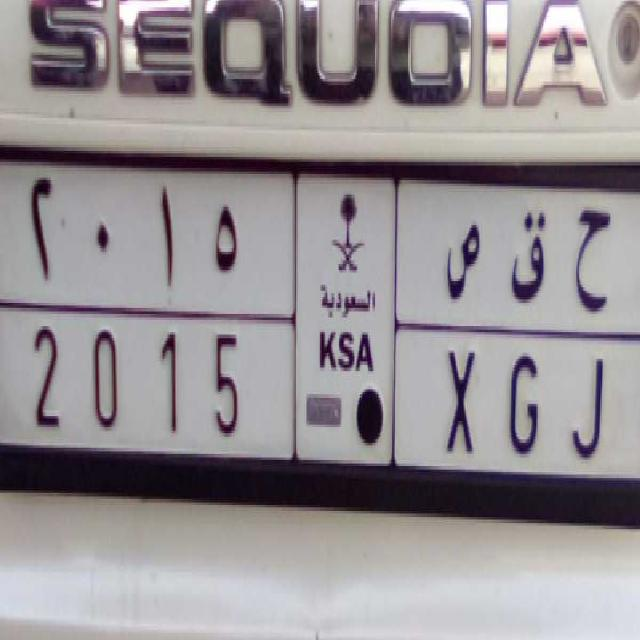license_plate: (6, 298, 638, 503)
